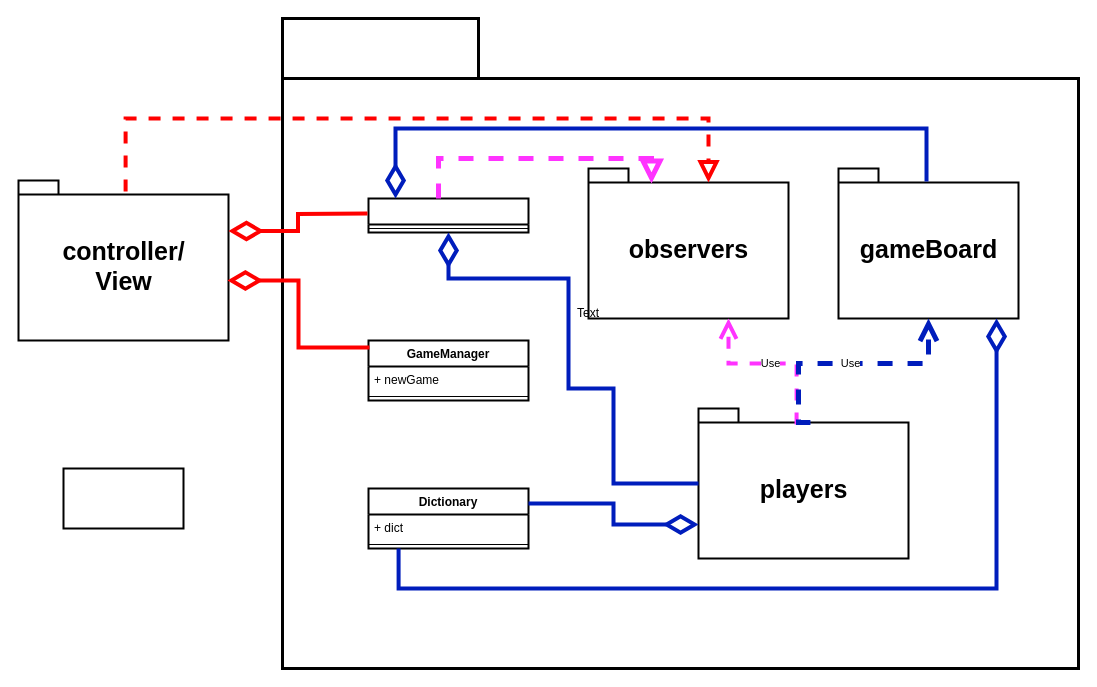
Image size: 1097x687. Some labels were removed from this diagram. Here are the shapes that lost their labels. From the top down, the centre of each, then its label:
At (x=380, y=48): "model".
At (x=448, y=215): "Game".
At (x=123, y=498): "View".
